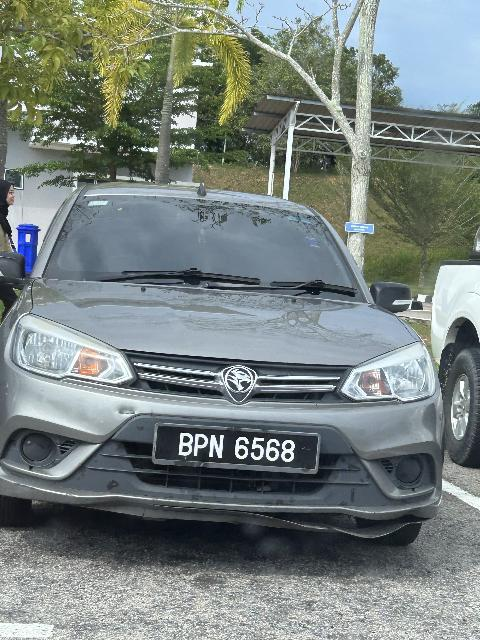BPN6568: (152, 424, 325, 470)
License_Plate: (152, 424, 325, 470)
car: (1, 177, 443, 569)
